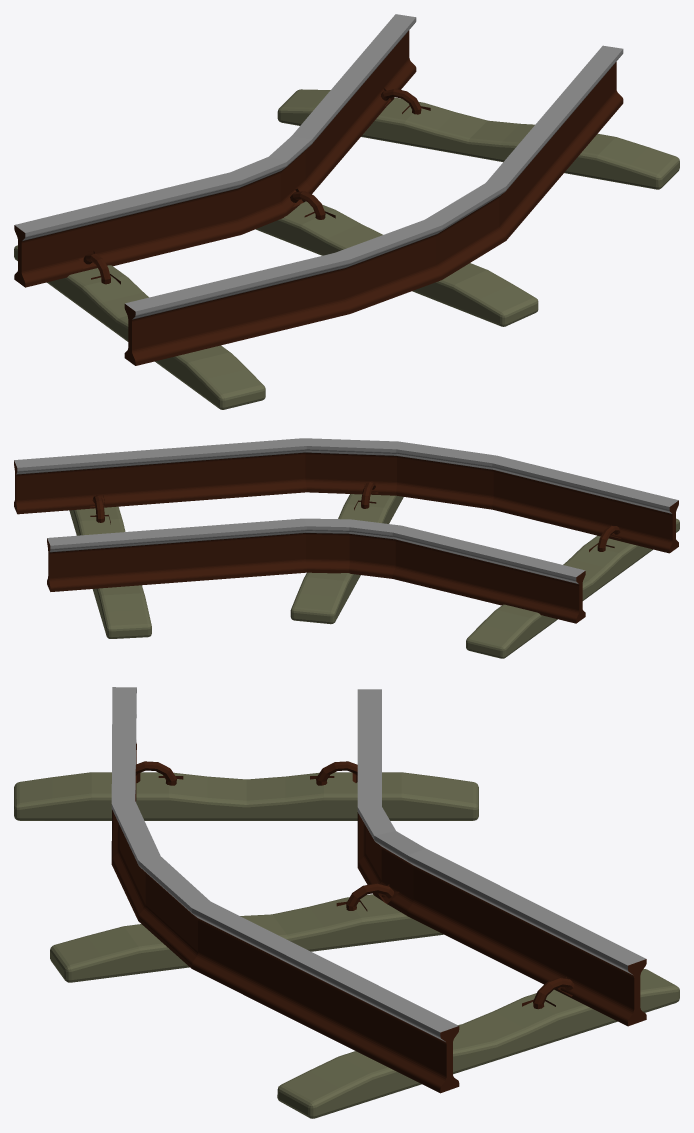
File: ray_tas_egimli_revize.fbx
The picture shows the model from 3 angles, top to bottom: view 1: azimuth 30°, elevation 25°; view 2: azimuth 150°, elevation 25°; view 3: azimuth 270°, elevation 25°; orthographic projection. The views are drawn at different scales.
Parts seen in each view (by area): view 1: Cube.010, Cube.002, Cube.001, Cube.003; view 2: Cube.010, Cube.003, Cube.001, Cube.002; view 3: Cube.010, Cube.003, Cube.002, Cube.001.
Part boxes in pixels (bbox=[...]): Cube.010: bbox=[14, 14, 623, 365]; Cube.002: bbox=[277, 88, 679, 189]; Cube.001: bbox=[255, 188, 538, 326]; Cube.003: bbox=[14, 245, 265, 409]; Cube.010: bbox=[14, 438, 678, 623]; Cube.003: bbox=[466, 518, 679, 658]; Cube.001: bbox=[290, 481, 403, 624]; Cube.002: bbox=[69, 495, 151, 638]; Cube.010: bbox=[111, 687, 646, 1093]; Cube.003: bbox=[14, 761, 478, 820]; Cube.002: bbox=[277, 969, 679, 1118]; Cube.001: bbox=[50, 883, 443, 982].
Size of the model in its own units: 869 by 104 by 708.
